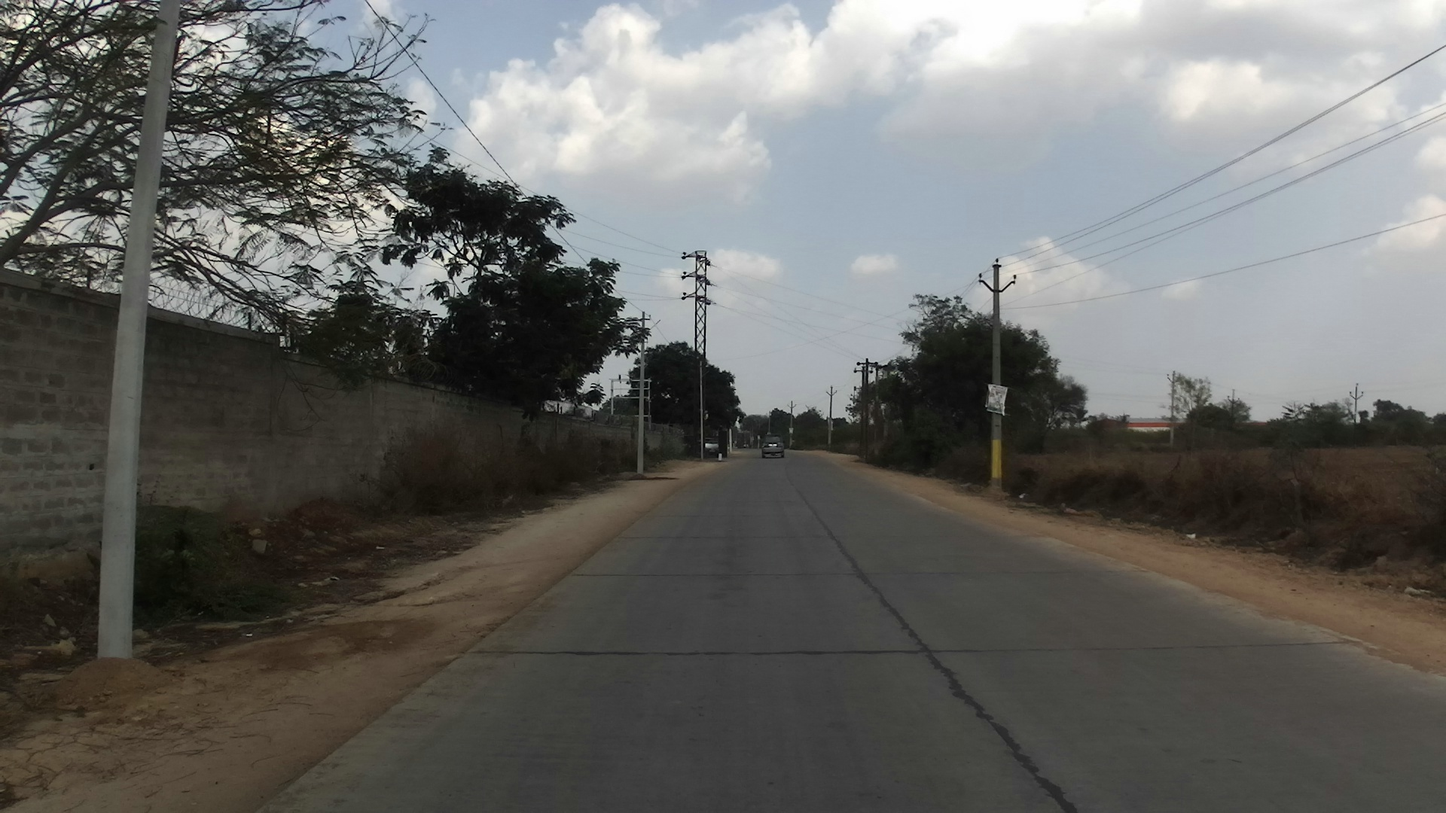car: (761, 434, 786, 458), (704, 437, 721, 457)
